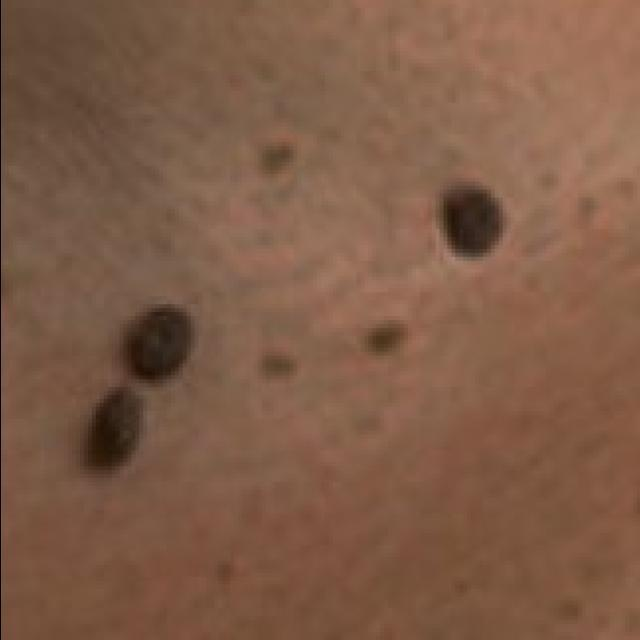wart: (122, 296, 202, 384), (83, 379, 150, 478), (442, 182, 510, 260)
